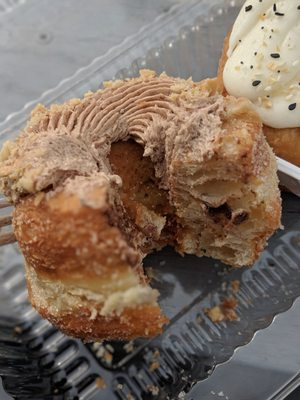burger: (24, 200, 300, 400)
